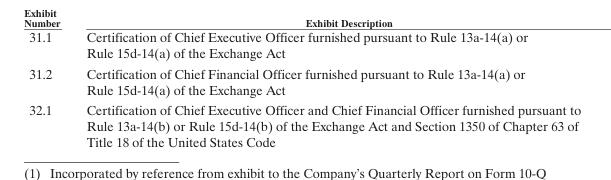table: (28, 28, 580, 149)
table column: (68, 28, 580, 149), (28, 28, 68, 149)
table row: (28, 99, 580, 149), (28, 62, 580, 99), (28, 28, 580, 62)
